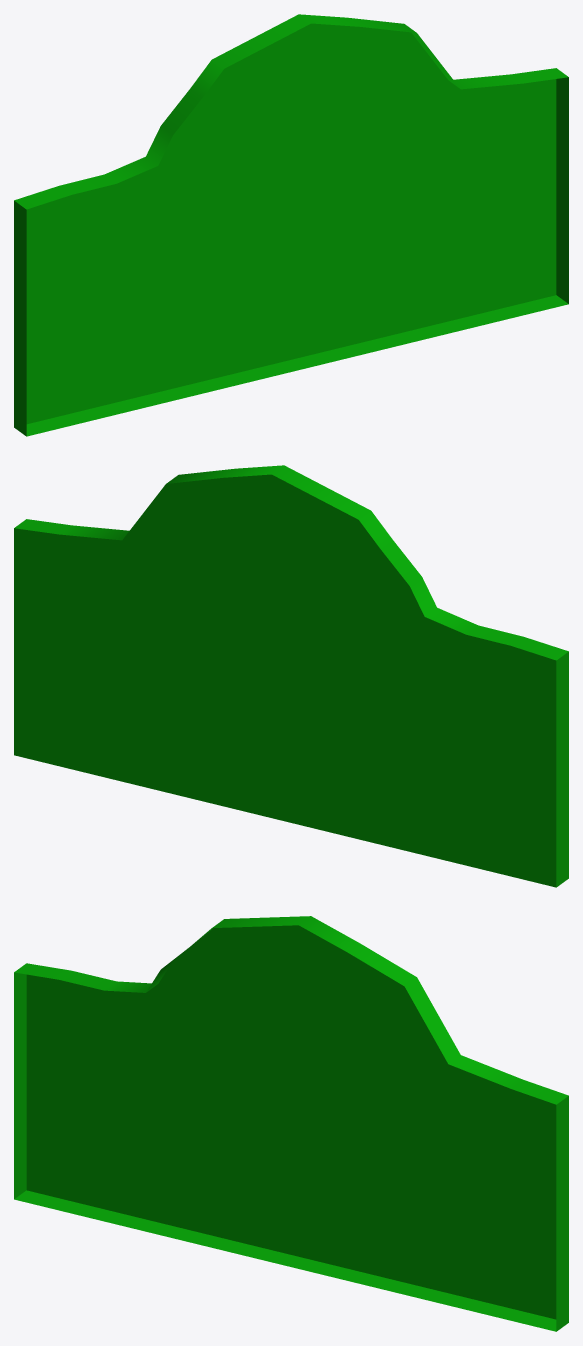
Rendered from ice cream ridge low res.fbx.
3 views of the same model, one above another, from view 1: azimuth 30°, elevation 25°; view 2: azimuth 150°, elevation 25°; view 3: azimuth 330°, elevation 25° (orthographic).
Visible parts, largest first — view 1: ice_Cream_Ridge_terrain; view 2: ice_Cream_Ridge_terrain; view 3: ice_Cream_Ridge_terrain.
Part boxes in pixels (x1,y1,x2,y2): ice_Cream_Ridge_terrain: (14, 14, 568, 436); ice_Cream_Ridge_terrain: (14, 465, 568, 887); ice_Cream_Ridge_terrain: (14, 916, 568, 1331).
Size of the model in its own units: 25 by 15.14 by 1.
